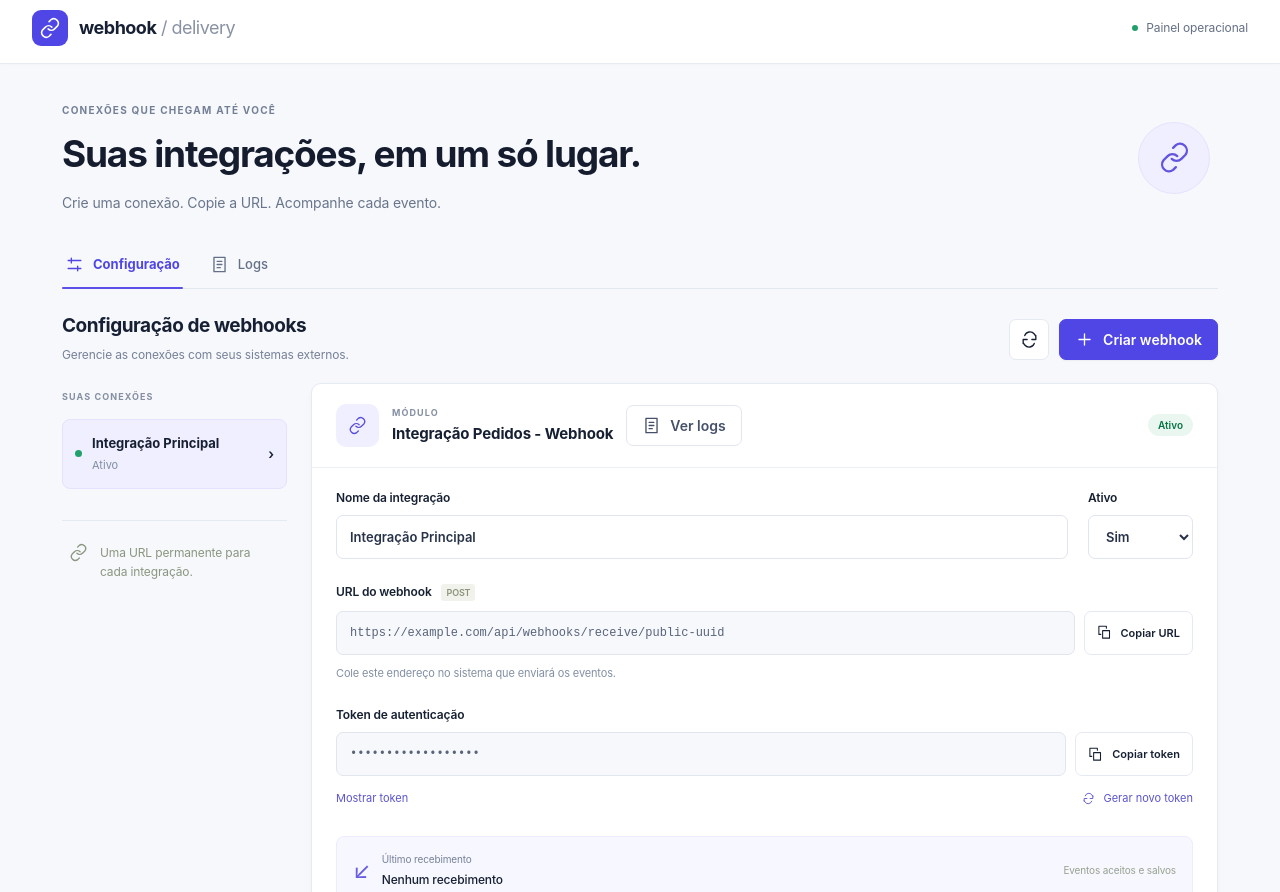
Test: painel operacional › salva nome e desativação
Replace the text in the field labelled "Nome da integração" with "Sistema externo" at coordinates (702, 537), box [336,515,1068,559]
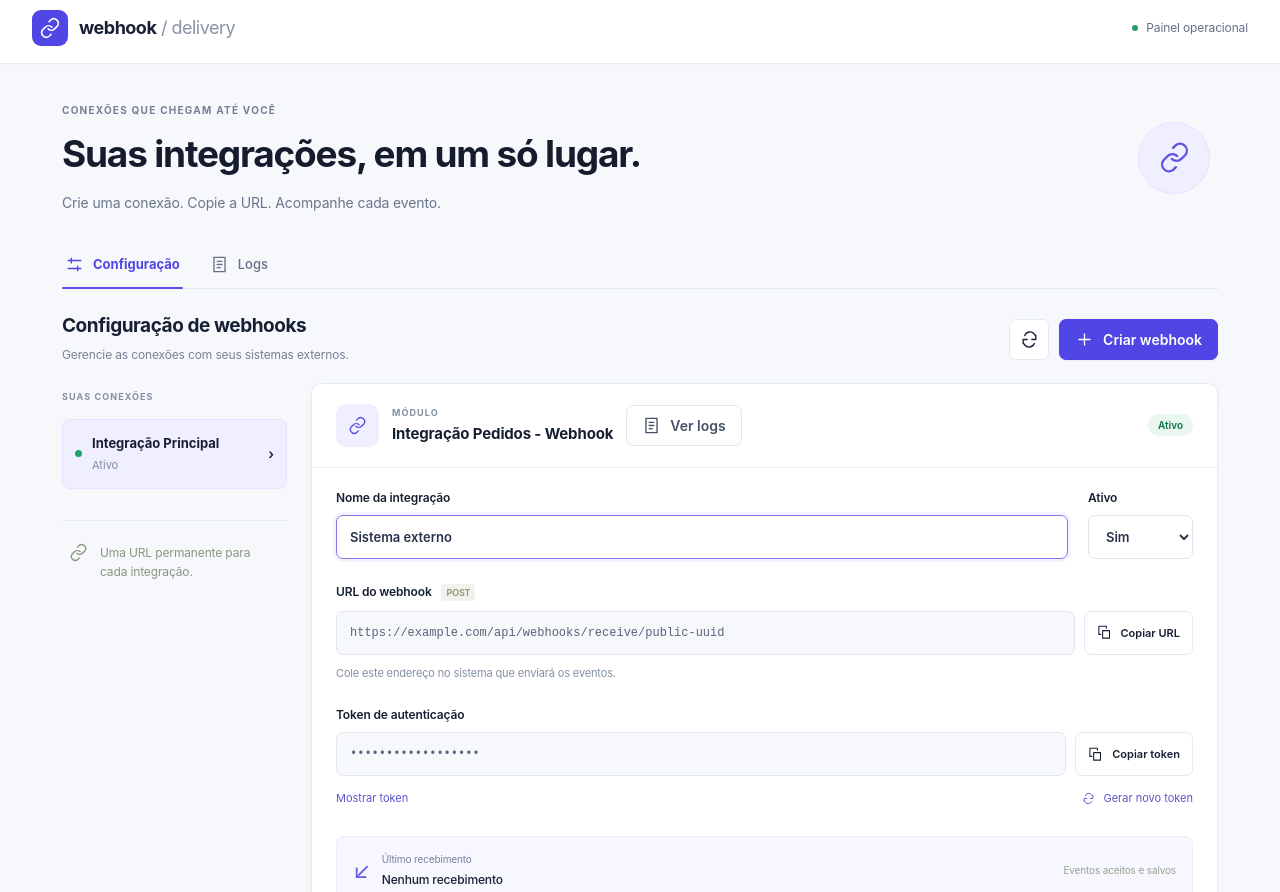
Select "Não" in the dropdown labelled "Ativo" at coordinates (1140, 537), box [1088,515,1193,559]
(page scrolled)
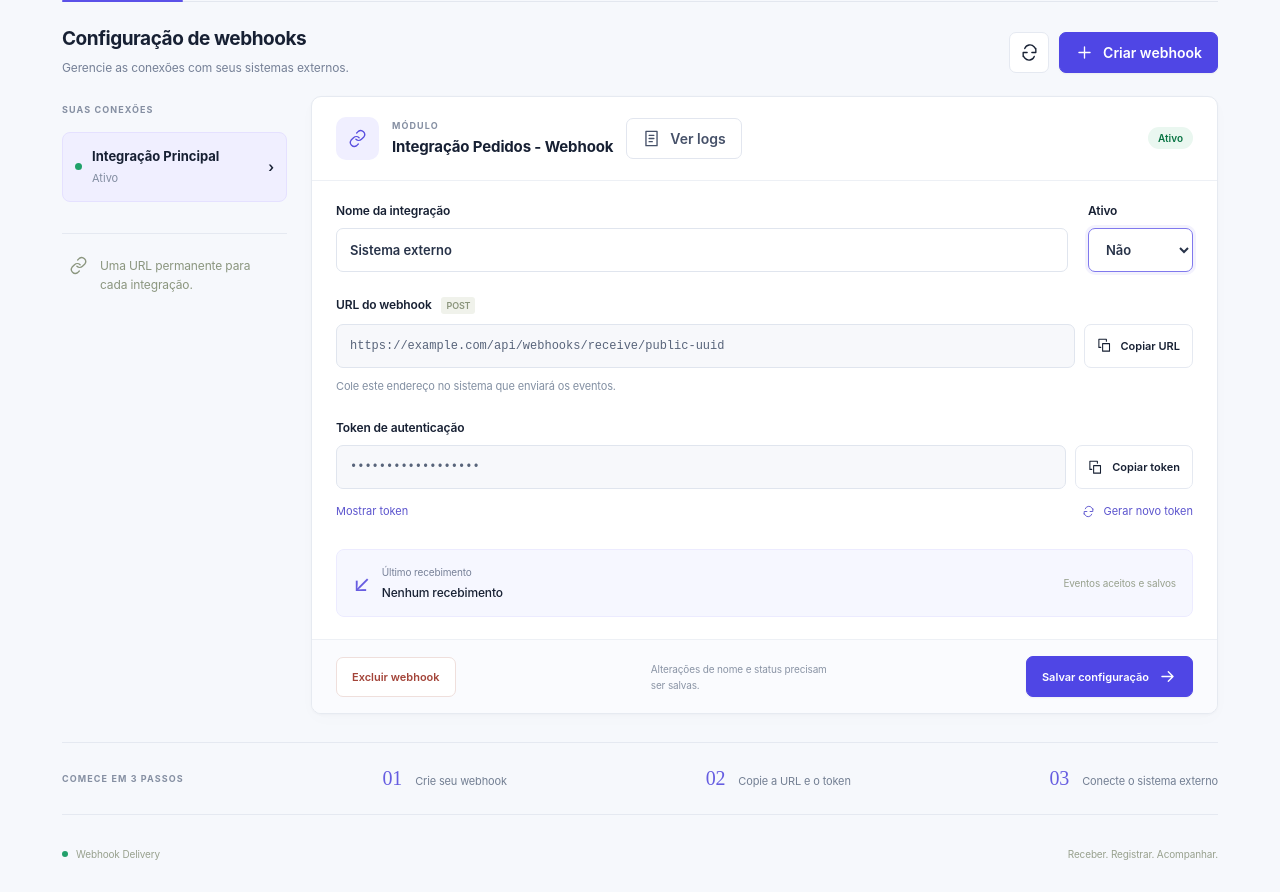
Click the button "Salvar configuração" at coordinates (1109, 677), box [1026,656,1193,697]
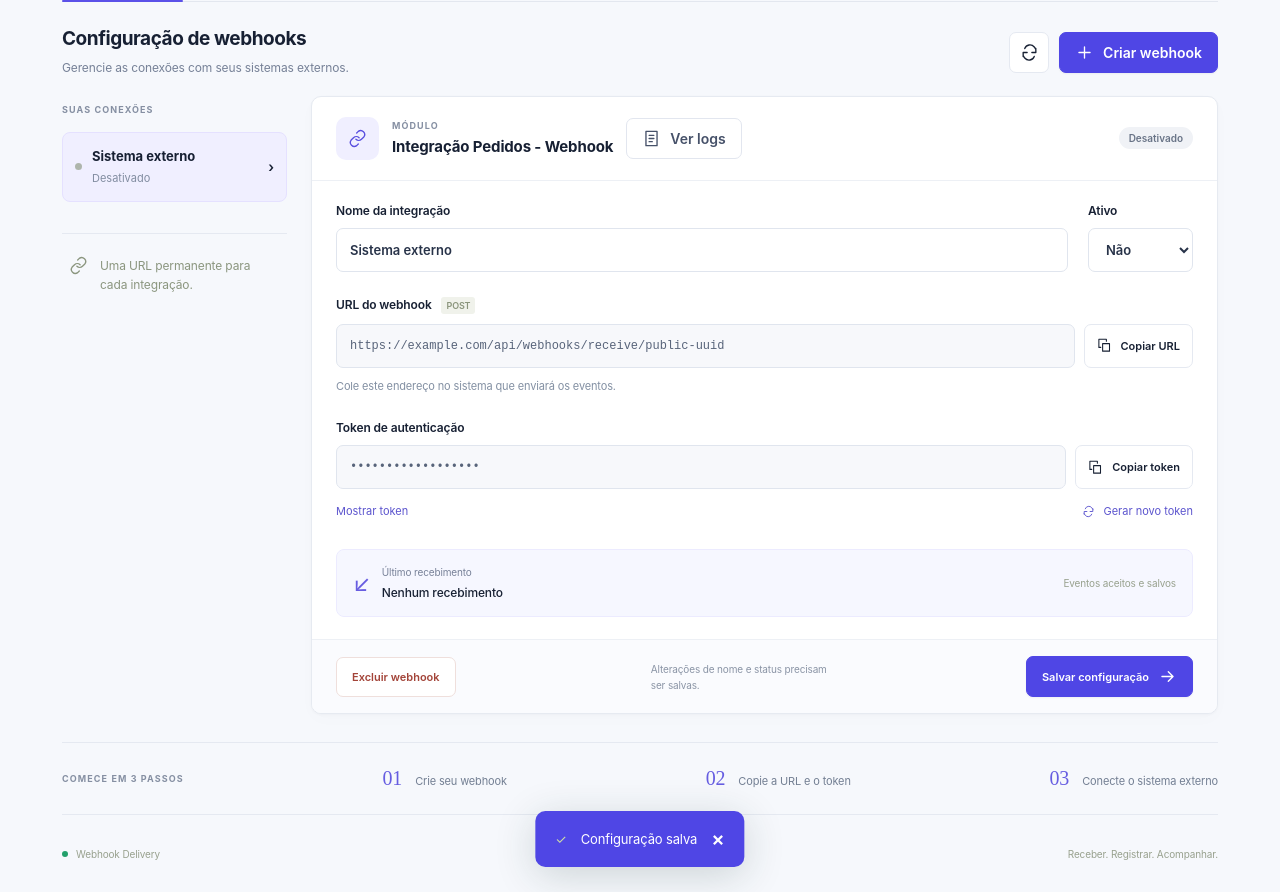
Check: the text "Configuração salva" is shown, box [581,831,697,847]
